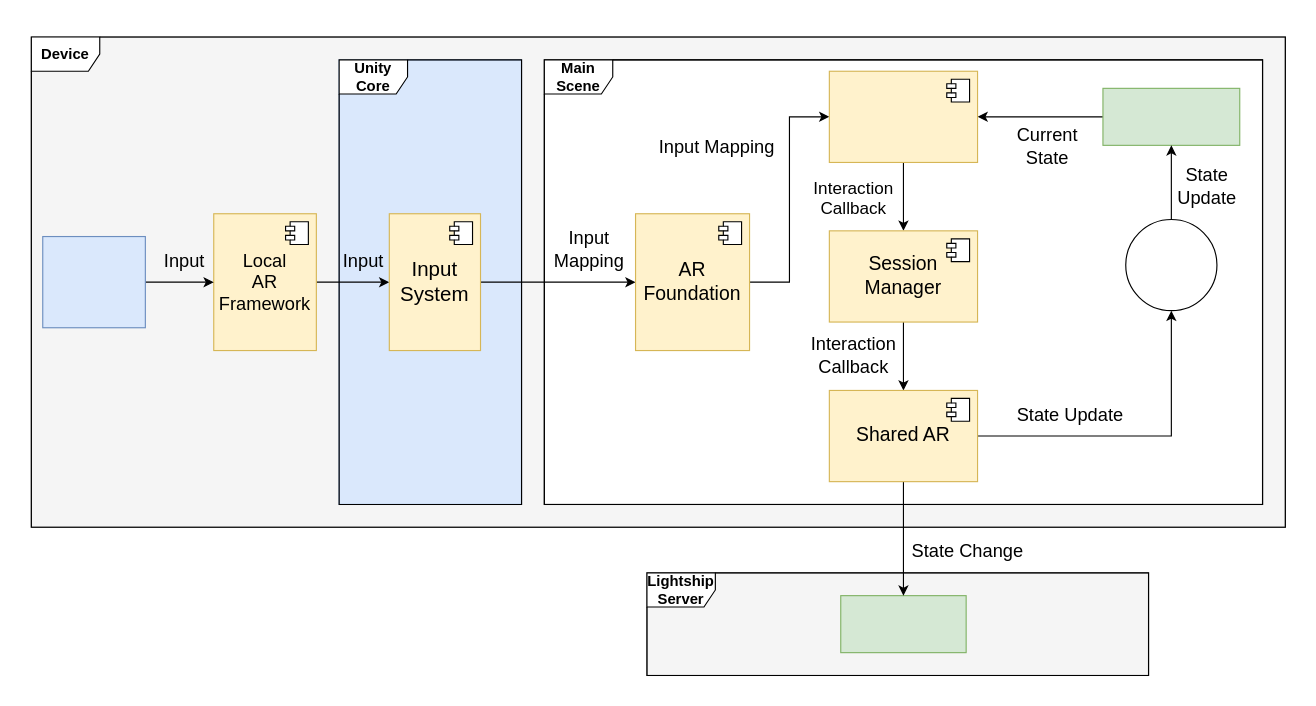
This 1316x706 diagram has some shape labels left out. The centre of each missing label's shape, as x and y in pixels:
"Device Core" goes at point (93, 281).
"Local Object" goes at point (1171, 116).
"Network Object" goes at point (903, 624).
"Shared Objects" goes at point (1171, 264).
"Tracking Manager" goes at point (903, 116).
